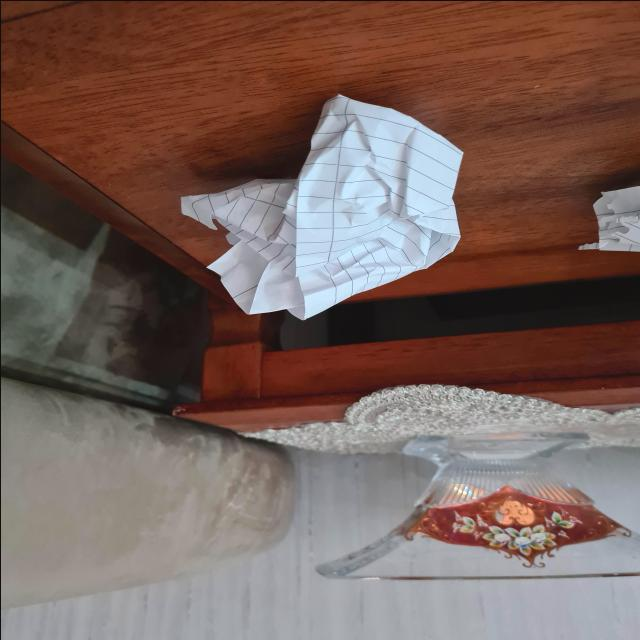Paper: (170, 94, 465, 315)
